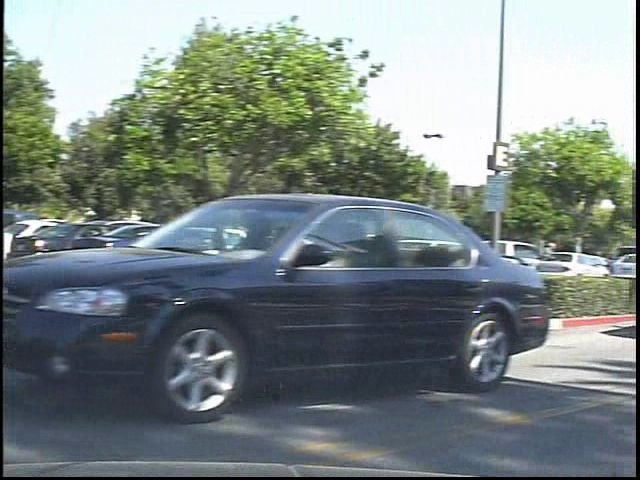person: (547, 233, 574, 289)
